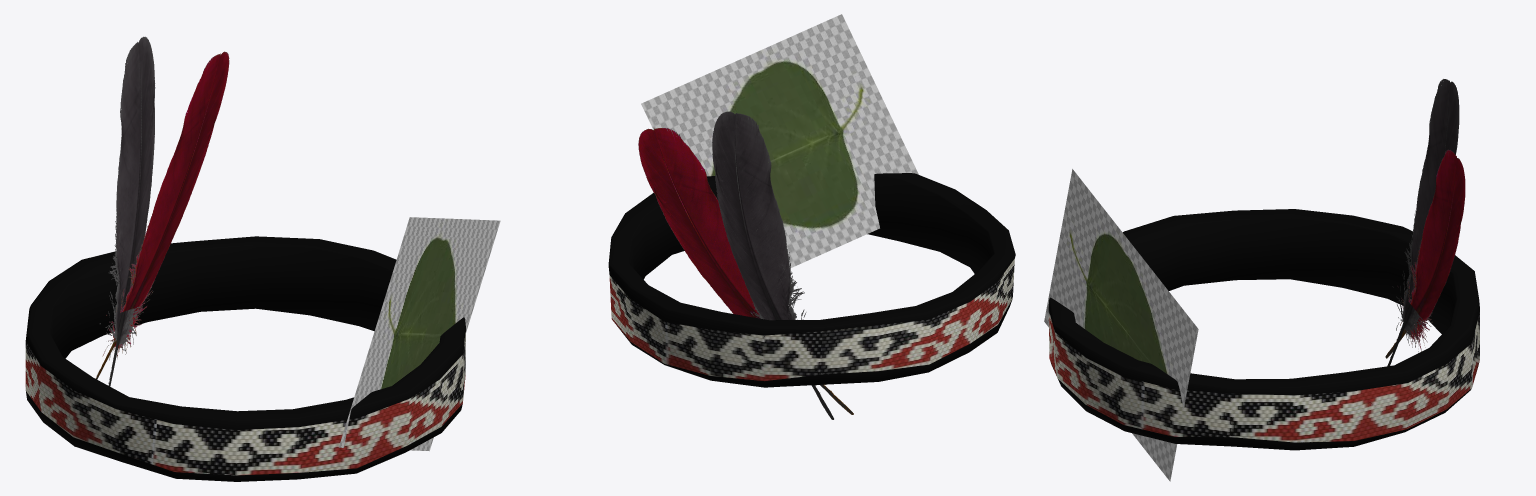
File: Headband_Final.fbx
3 views of the same model, side by side, from view 1: azimuth 30°, elevation 25°; view 2: azimuth 150°, elevation 25°; view 3: azimuth 270°, elevation 25° (orthographic). The views are drawn at different scales.
Visible parts, largest first — view 1: Headband; view 2: Headband; view 3: Headband.
Part boxes in pixels (bbox=[...]): Headband: bbox=[25, 36, 500, 481]; Headband: bbox=[608, 14, 1015, 419]; Headband: bbox=[1044, 79, 1479, 481].
Bounding box in the file's own units: 22.13 × 22.39 × 22.34.
